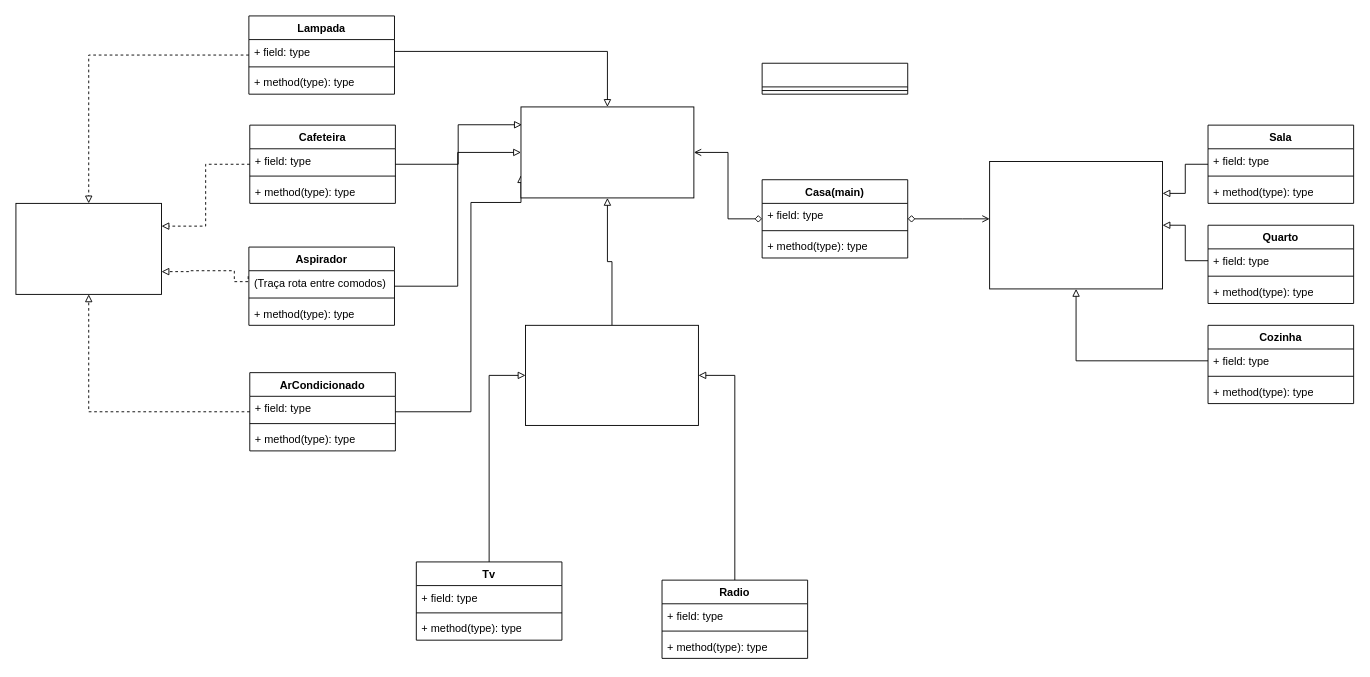
Some shapes in this 1370 by 677 pixel diagram are drawn without their labels. The shapes that lost their labels are listed below. From the top down, each one's centre as x and y in pixels, then its label:
At point (834, 78): "Menu".
At point (607, 152): "<<Abstract>> Dispositivo - nome: String - estado: boolean".
At point (1076, 225): "<<Abstract>> Comodo - nome: String - list<Dispositivo> + salvarStatus(): void".
At point (88, 248): "<<Interface>> Controle + mudarEstado(): void".
At point (611, 374): "<<Abstract>> DispositivoAudioVideo - volume: int - canal: int".
